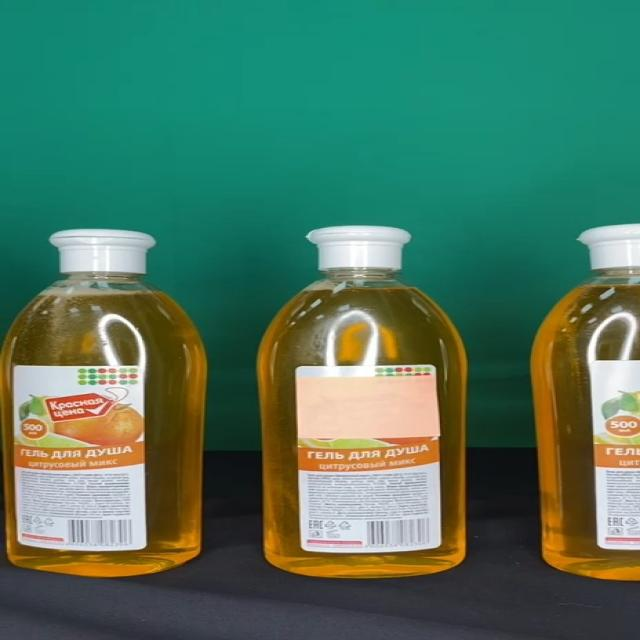Bottle: (258, 226, 467, 578), (0, 229, 206, 578)
Cap: (49, 229, 156, 273), (307, 226, 413, 270)
